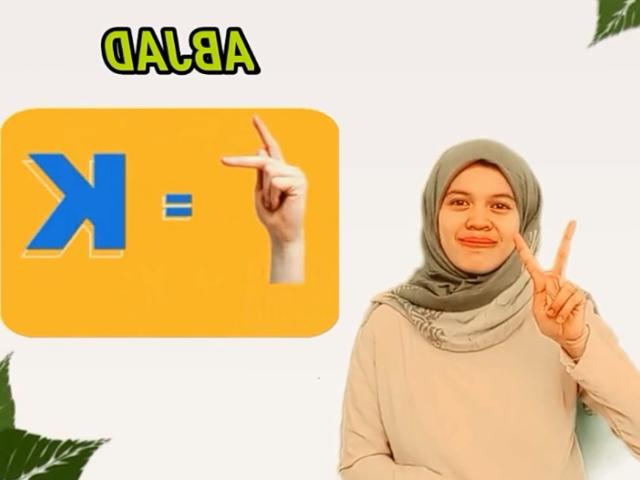K: (217, 112, 319, 284), (509, 212, 595, 362)
